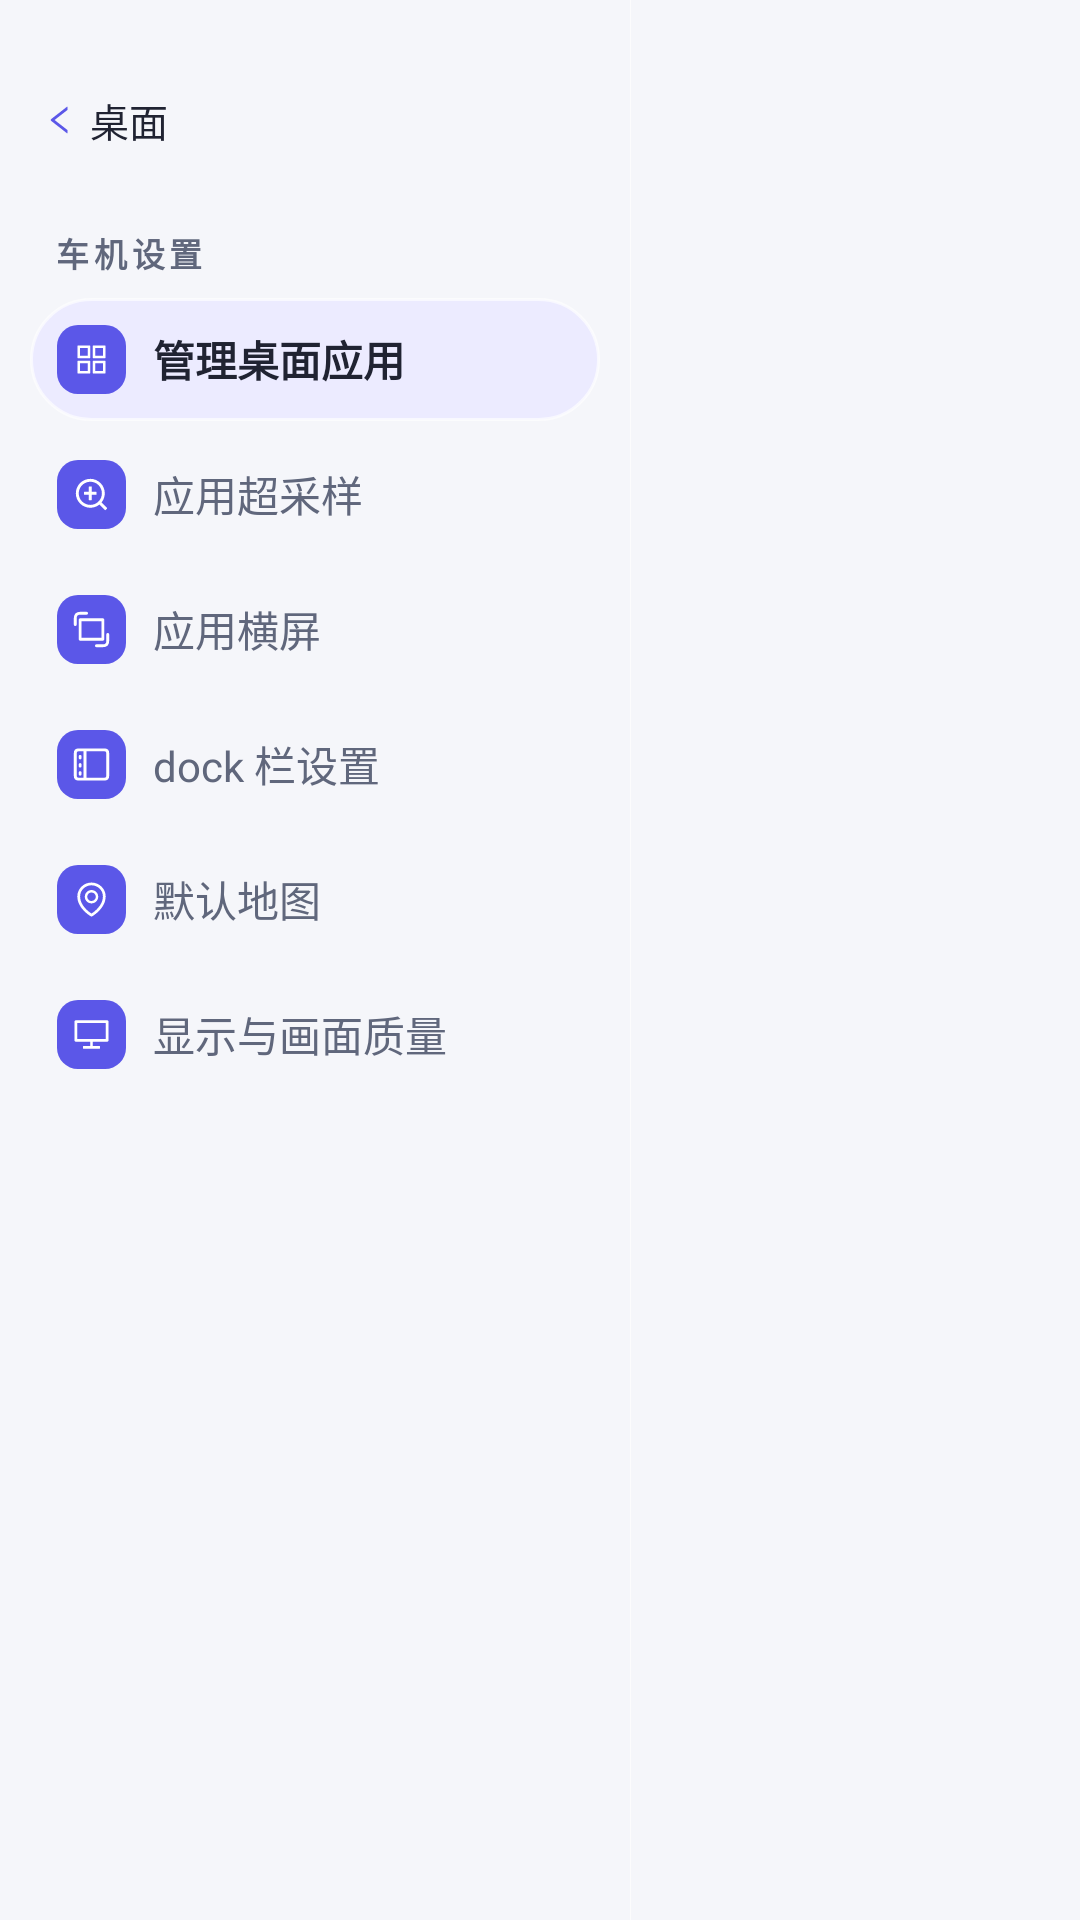

Icon bounding boxes for this 1080x1920 phone screenshot, format {"x1": x1, "y1": y1, "x2": x2, "y2": y2}:
grid: {"x1": 57, "y1": 325, "x2": 126, "y2": 394}
map: {"x1": 57, "y1": 865, "x2": 126, "y2": 934}
screen rotation: {"x1": 57, "y1": 595, "x2": 126, "y2": 664}
zoom: {"x1": 57, "y1": 460, "x2": 126, "y2": 529}
